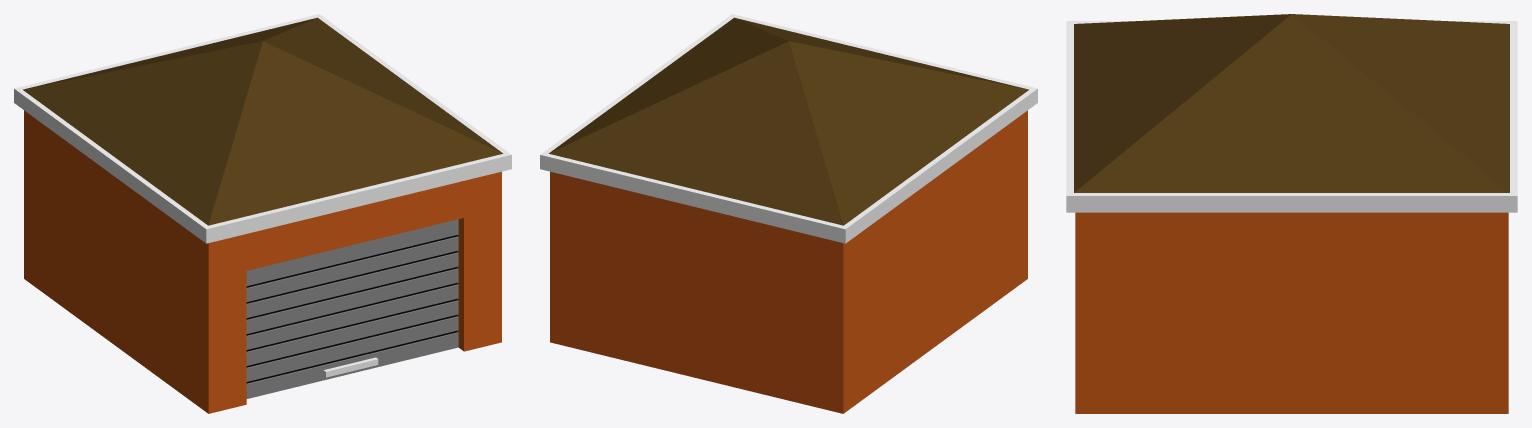
The model's file is Garage-02b.fbx.
3 renders of one model, left to right at view 1: azimuth 30°, elevation 25°; view 2: azimuth 150°, elevation 25°; view 3: azimuth 270°, elevation 25°, orthographic. The views are drawn at different scales.
Visible parts, largest first — view 1: Garage-02; view 2: Garage-02; view 3: Garage-02.
Boxes of the visible parts, box(x1,y1,x2,y2) form: Garage-02: box(14, 14, 511, 413); Garage-02: box(540, 14, 1037, 413); Garage-02: box(1066, 14, 1517, 413).
Size of what is drawn, in the model's own units: 5.26 by 4.43 by 5.73.
